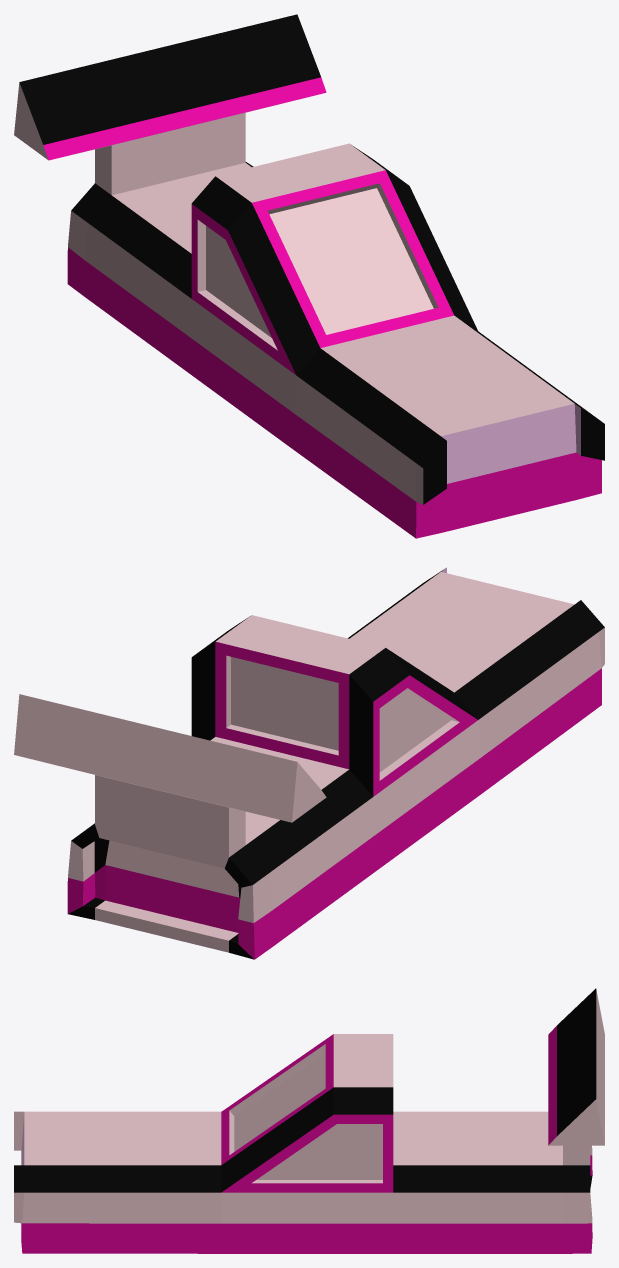
Rendered from car_sofia_mesh.glb.
The picture shows the model from 3 angles, top to bottom: view 1: azimuth 30°, elevation 25°; view 2: azimuth 150°, elevation 25°; view 3: azimuth 270°, elevation 25°; orthographic projection. The views are drawn at different scales.
Visible parts, largest first — view 1: Cube; view 2: Cube; view 3: Cube.
Boxes of the visible parts, x1,y1,x2,y2 form: Cube: (14, 14, 604, 538); Cube: (14, 567, 604, 959); Cube: (14, 988, 604, 1253).
Size of the model in its own units: 3.06 by 2.22 by 6.88.
